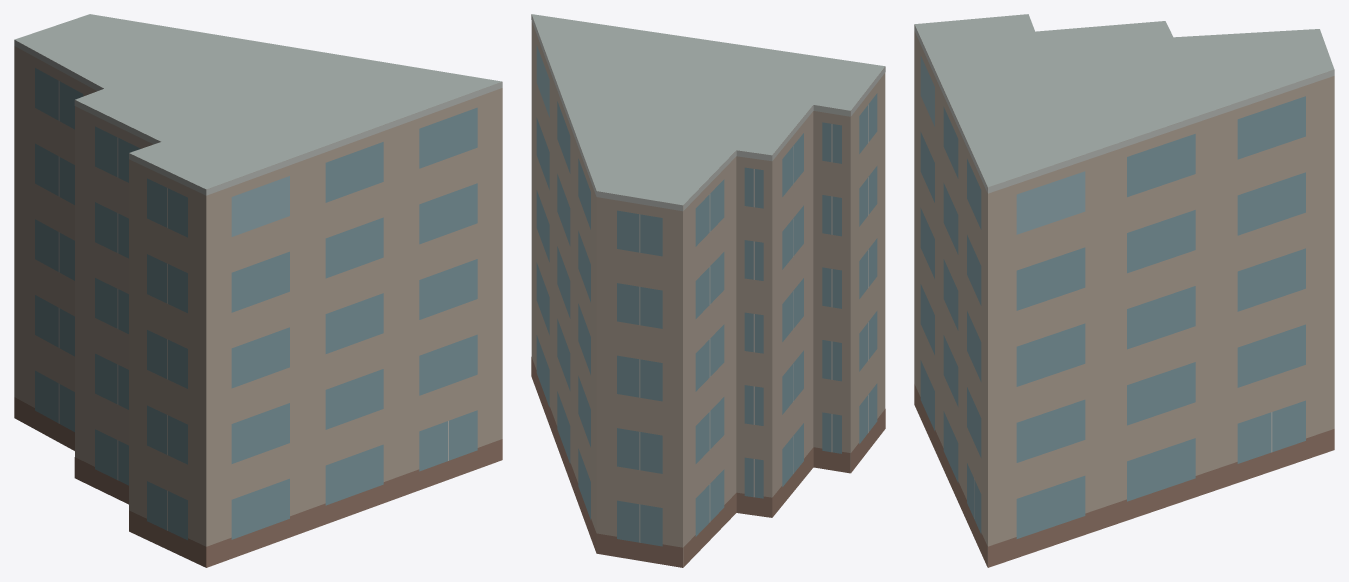
File: survey-upis-32919109.glb
3 renders of one model, left to right at view 1: azimuth 30°, elevation 25°; view 2: azimuth 150°, elevation 25°; view 3: azimuth 270°, elevation 25°, orthographic. The views are drawn at different scales.
Visible parts, largest first — view 1: survey-upis-32919109.tmp; view 2: survey-upis-32919109.tmp; view 3: survey-upis-32919109.tmp.
Boxes of the visible parts, bbox=[...] form: survey-upis-32919109.tmp: bbox=[14, 14, 502, 567]; survey-upis-32919109.tmp: bbox=[531, 14, 885, 567]; survey-upis-32919109.tmp: bbox=[914, 14, 1334, 567].
Bounding box in the file's own units: 14.53 × 14.85 × 14.87.
